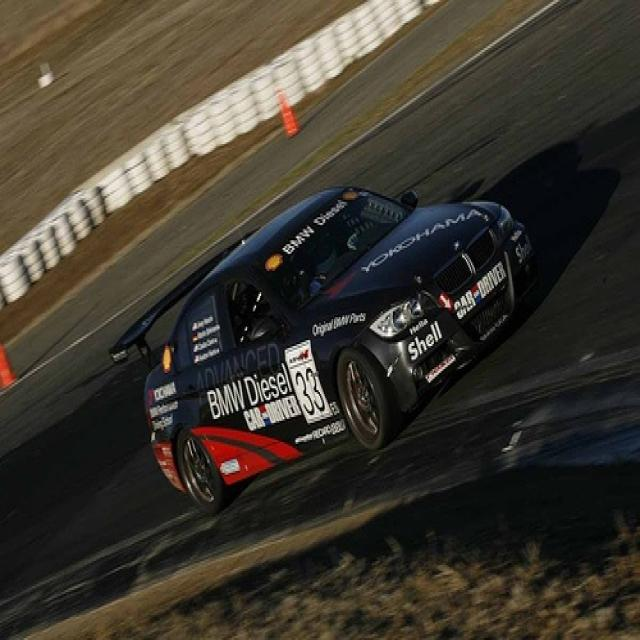car: (110, 185, 530, 511)
